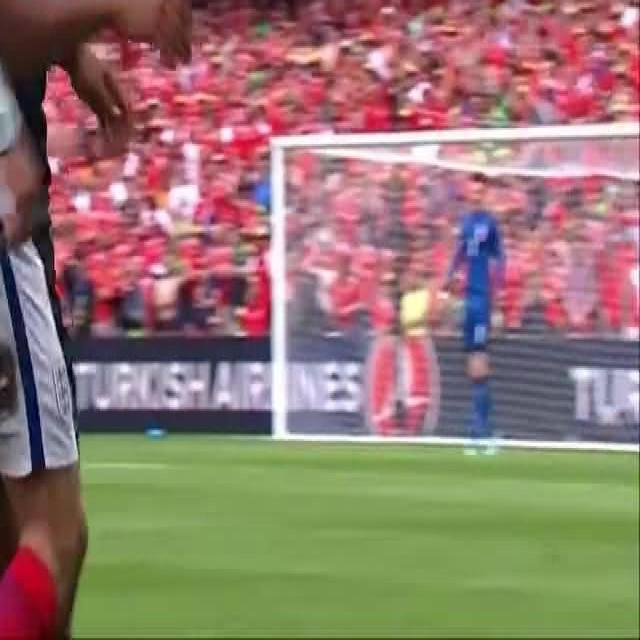player-white: (0, 0, 193, 640), (0, 0, 87, 640), (441, 168, 505, 452)
